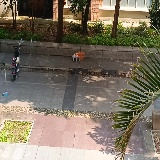fire: (75, 51, 85, 60)
